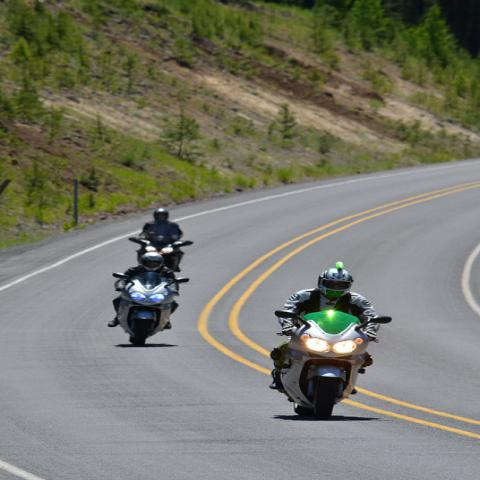motorcycle: (277, 311, 393, 418), (108, 271, 190, 346), (124, 234, 195, 268)
